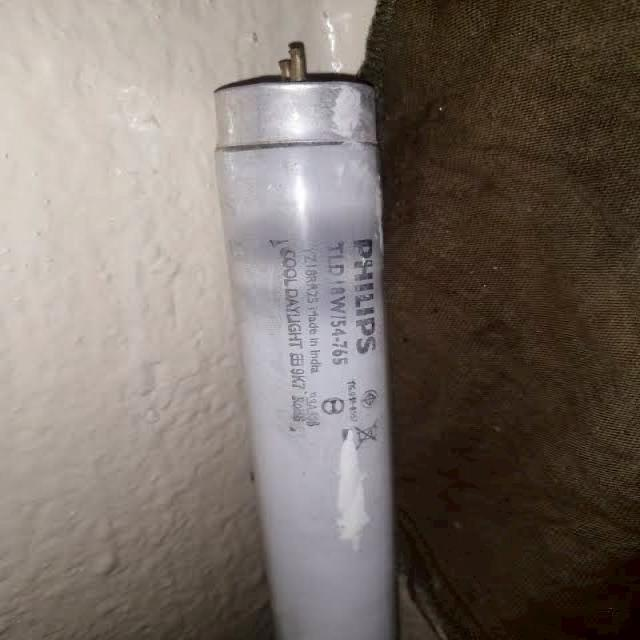bulb: (222, 36, 402, 640)
